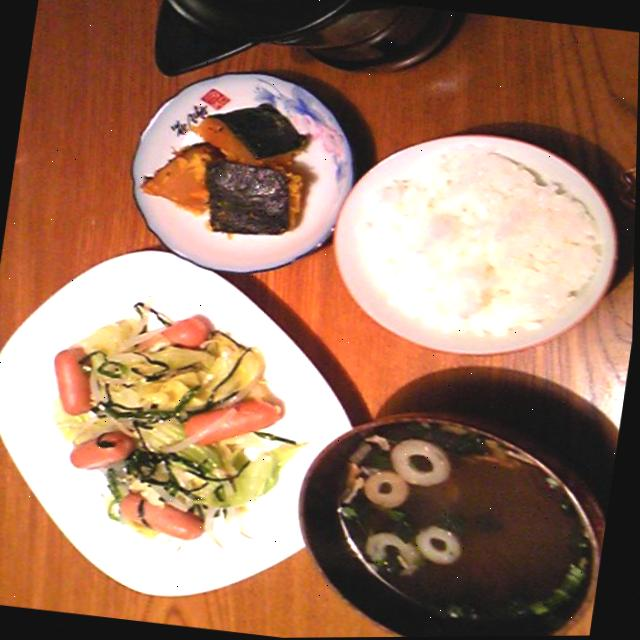米饭主食: (308, 109, 638, 382)
